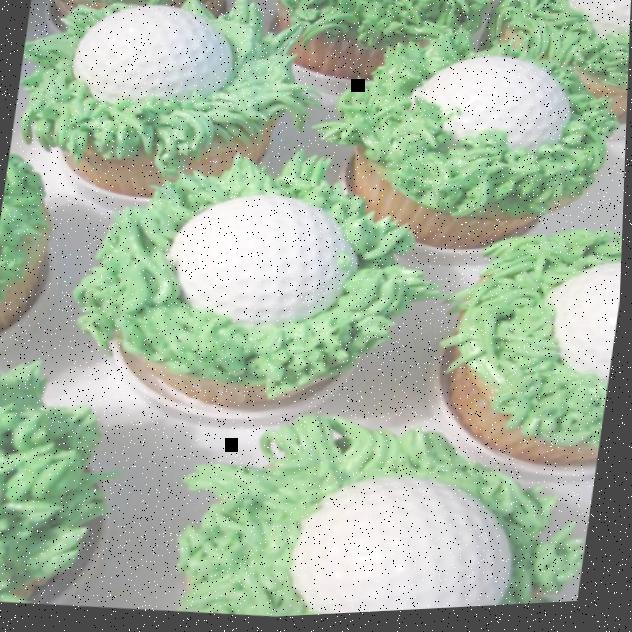GolfBall: (266, 454, 559, 620), (148, 177, 389, 345), (401, 43, 586, 185), (65, 0, 249, 121)
